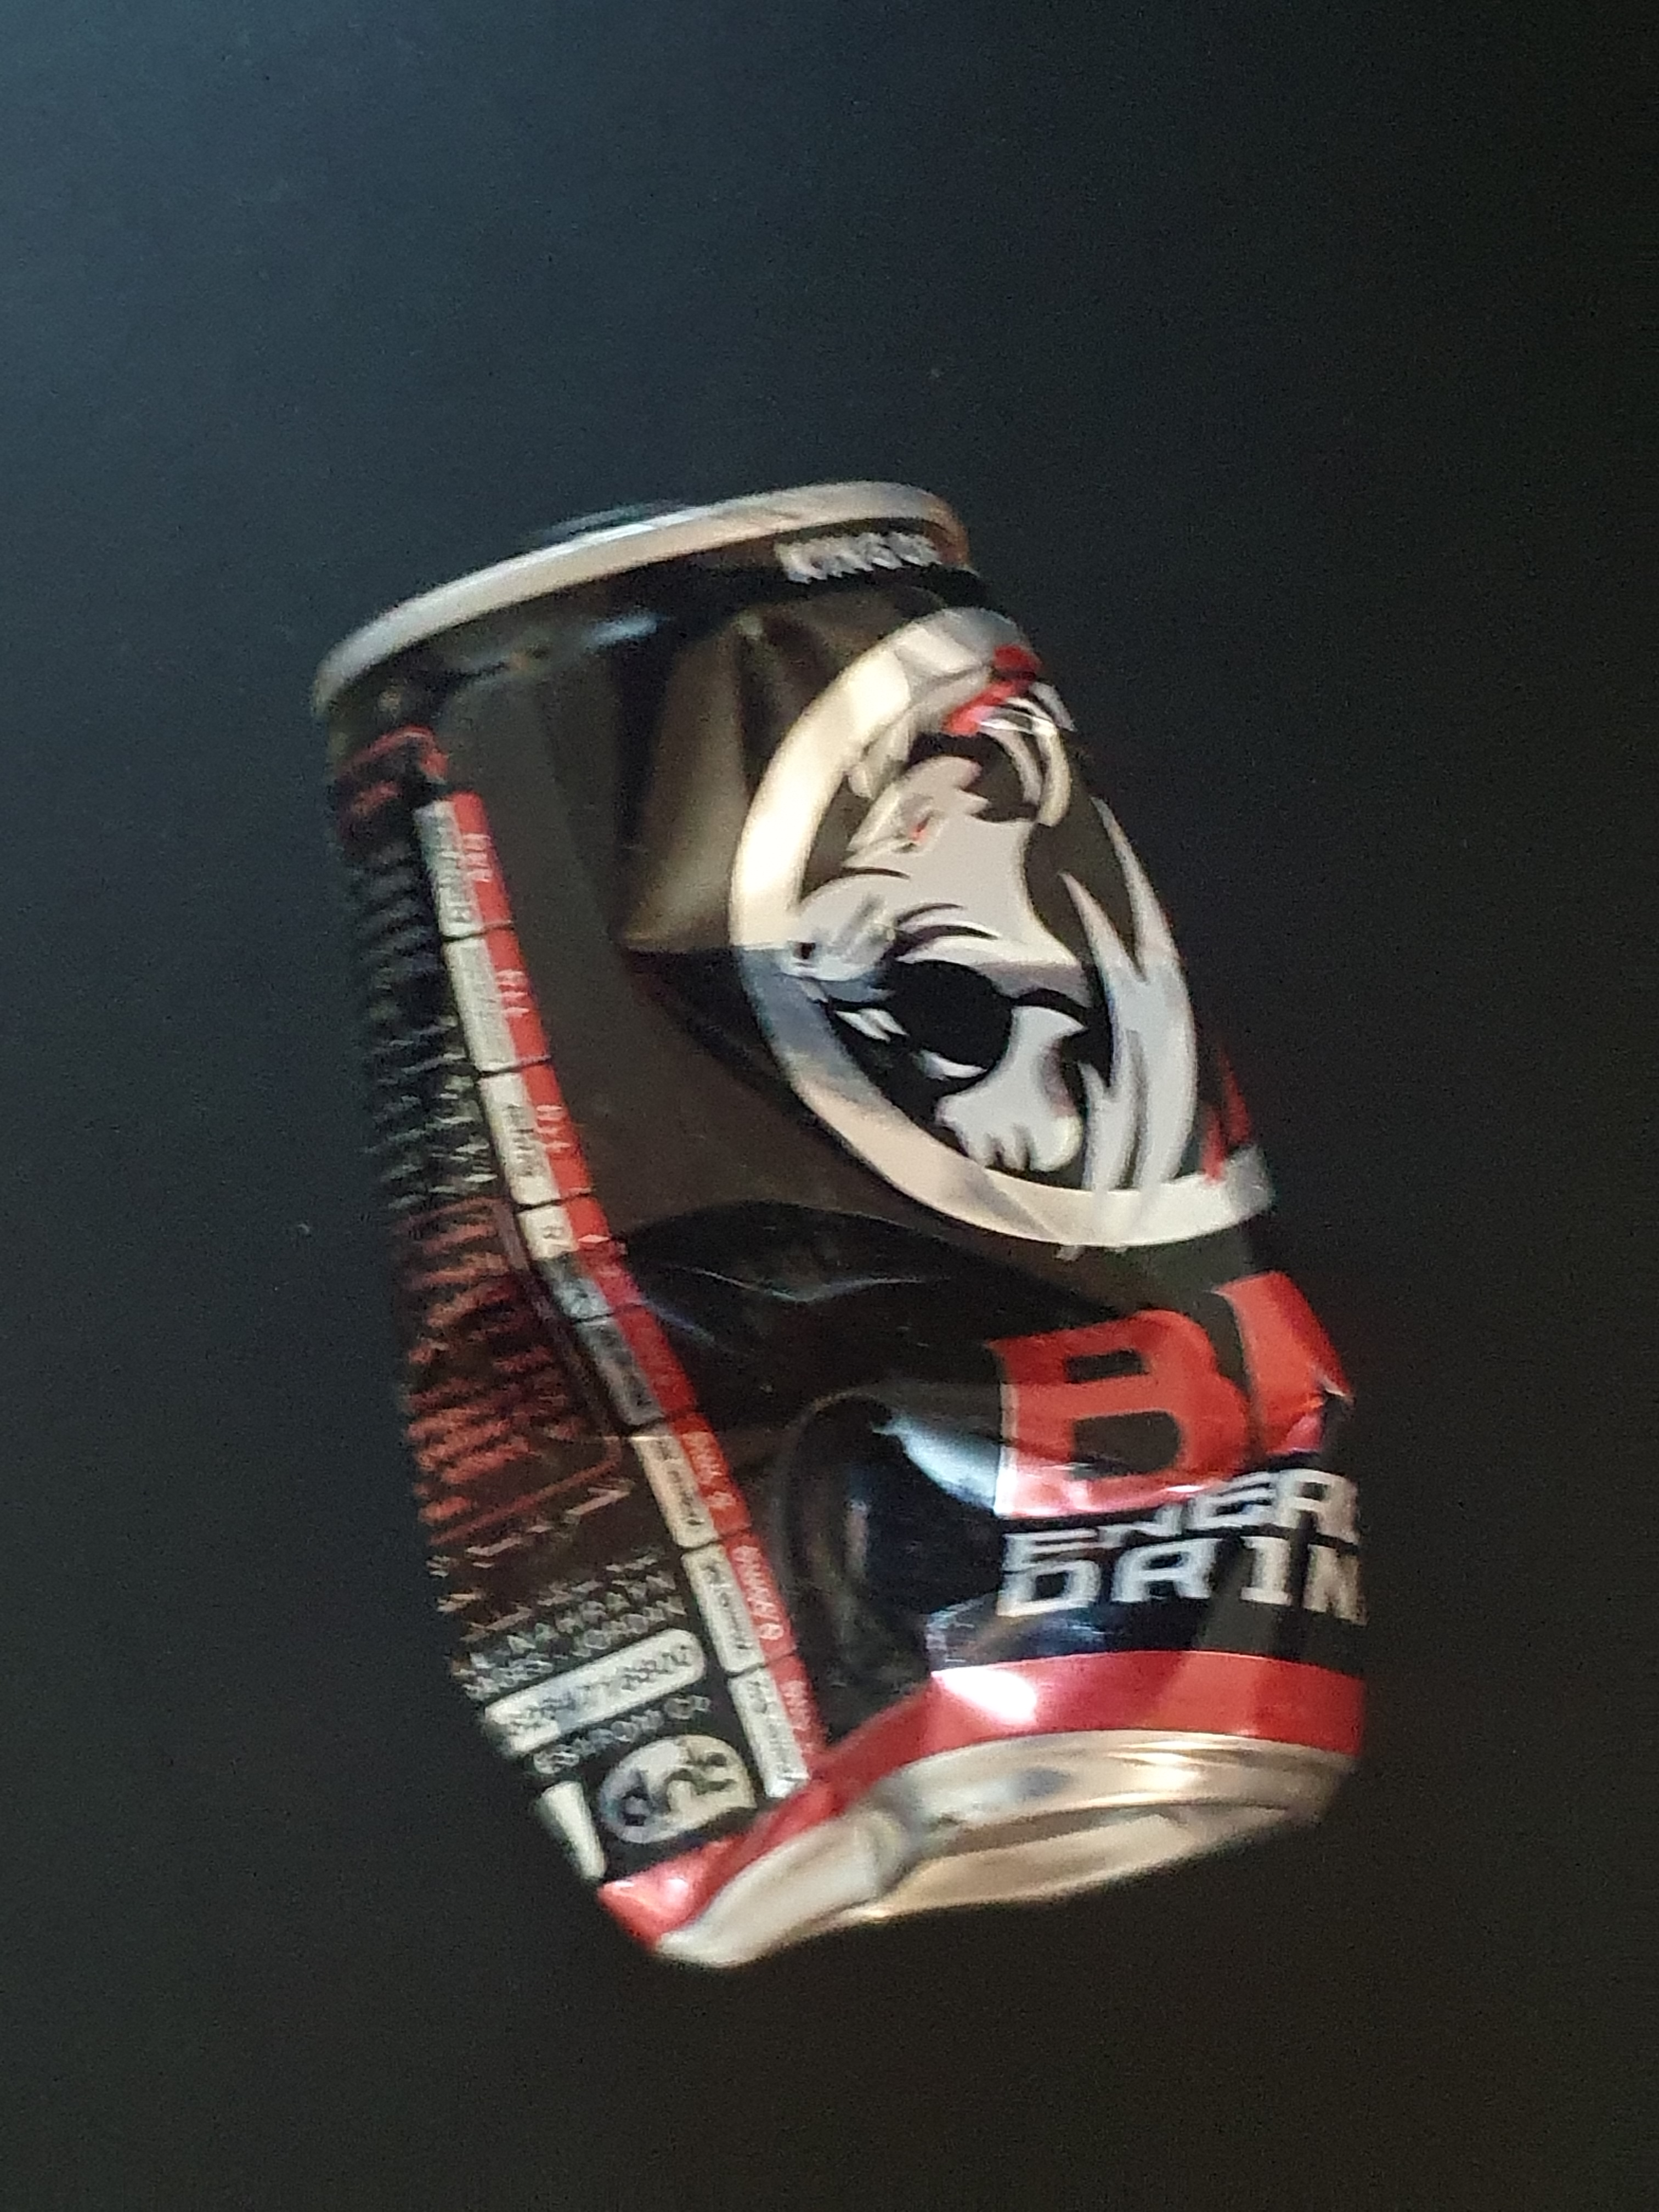metal: (242, 416, 1408, 2024)
